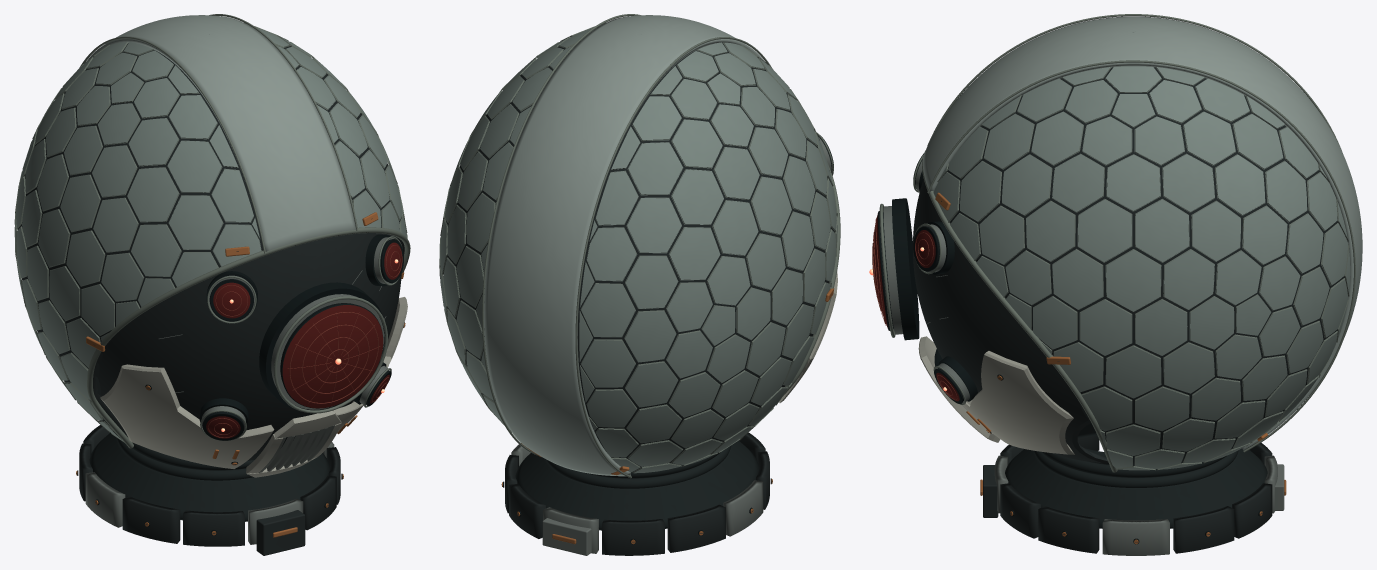
The model's file is hex_witness_d0_lod0.glb.
3 views of the same model, side by side, from view 1: azimuth 30°, elevation 25°; view 2: azimuth 150°, elevation 25°; view 3: azimuth 270°, elevation 25° (orthographic). The views are drawn at different scales.
Parts seen in each view (by area): view 1: SURFACE_SHELL, SURFACE_CROWN_BAND, SURFACE_FACEPLATE, SURFACE_COLLAR, OPTICAL_GLASS, SURFACE_OPTICS, SURFACE_JAW, SURFACE_RESPIRATOR; view 2: SURFACE_SHELL, SURFACE_CROWN_BAND, SURFACE_COLLAR, SURFACE_JAW; view 3: SURFACE_SHELL, SURFACE_CROWN_BAND, SURFACE_COLLAR, SURFACE_FACEPLATE, SURFACE_OPTICS, SURFACE_JAW, OPTICAL_GLASS, SURFACE_RESPIRATOR.
Boxes of the visible parts, bbox=[...] form: SURFACE_SHELL: bbox=[14, 23, 410, 448]; SURFACE_CROWN_BAND: bbox=[79, 14, 358, 253]; SURFACE_FACEPLATE: bbox=[95, 233, 401, 460]; SURFACE_COLLAR: bbox=[76, 425, 343, 555]; OPTICAL_GLASS: bbox=[206, 242, 402, 438]; SURFACE_OPTICS: bbox=[199, 234, 403, 440]; SURFACE_JAW: bbox=[100, 297, 407, 468]; SURFACE_RESPIRATOR: bbox=[246, 410, 341, 477]; SURFACE_SHELL: bbox=[439, 24, 840, 475]; SURFACE_CROWN_BAND: bbox=[482, 14, 772, 478]; SURFACE_COLLAR: bbox=[501, 432, 772, 555]; SURFACE_JAW: bbox=[779, 271, 837, 402]; SURFACE_SHELL: bbox=[922, 66, 1350, 472]; SURFACE_CROWN_BAND: bbox=[922, 14, 1362, 452]; SURFACE_COLLAR: bbox=[980, 423, 1286, 555]; SURFACE_FACEPLATE: bbox=[913, 179, 1108, 463]; SURFACE_OPTICS: bbox=[877, 153, 977, 404]; SURFACE_JAW: bbox=[962, 351, 1074, 454]; OPTICAL_GLASS: bbox=[872, 213, 959, 401]; SURFACE_RESPIRATOR: bbox=[918, 336, 1000, 442].
Bounding box in the file's own units: 0.2786 × 0.379 × 0.3553.
